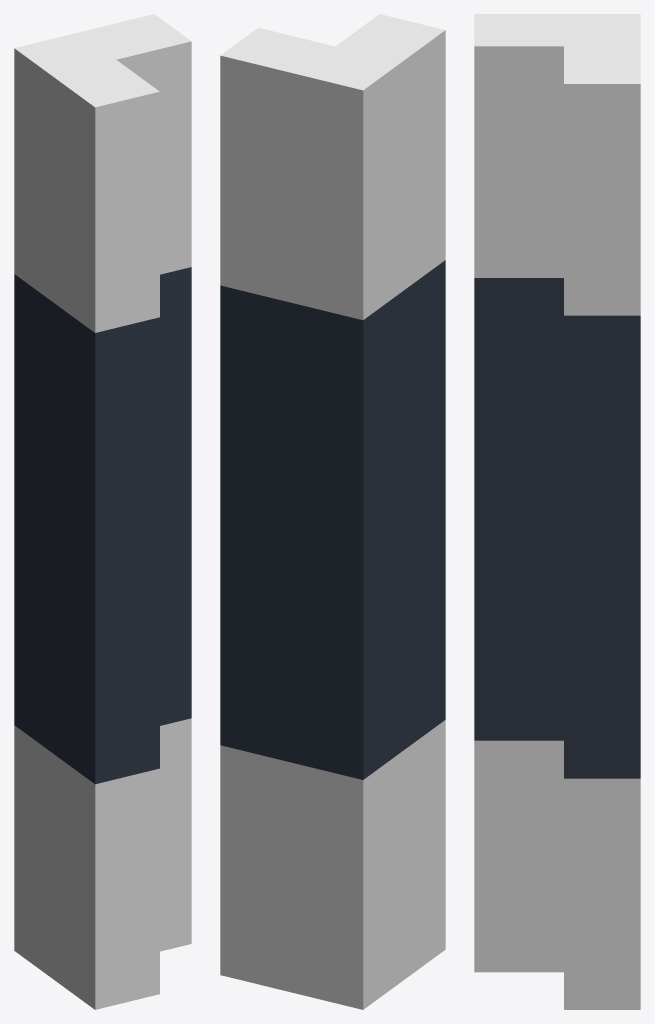
The model's file is SM_OfficeCornerThick.fbx.
3 views of the same model, side by side, from view 1: azimuth 30°, elevation 25°; view 2: azimuth 150°, elevation 25°; view 3: azimuth 270°, elevation 25° (orthographic). The views are drawn at different scales.
Visible parts, largest first — view 1: SM_CornerThick; view 2: SM_CornerThick; view 3: SM_CornerThick.
Part boxes in pixels (<box>): SM_CornerThick: <box>14,14,191,1009</box>; SM_CornerThick: <box>220,14,445,1009</box>; SM_CornerThick: <box>474,14,640,1009</box>.
Bounding box in the file's own units: 65 × 400 × 65.
